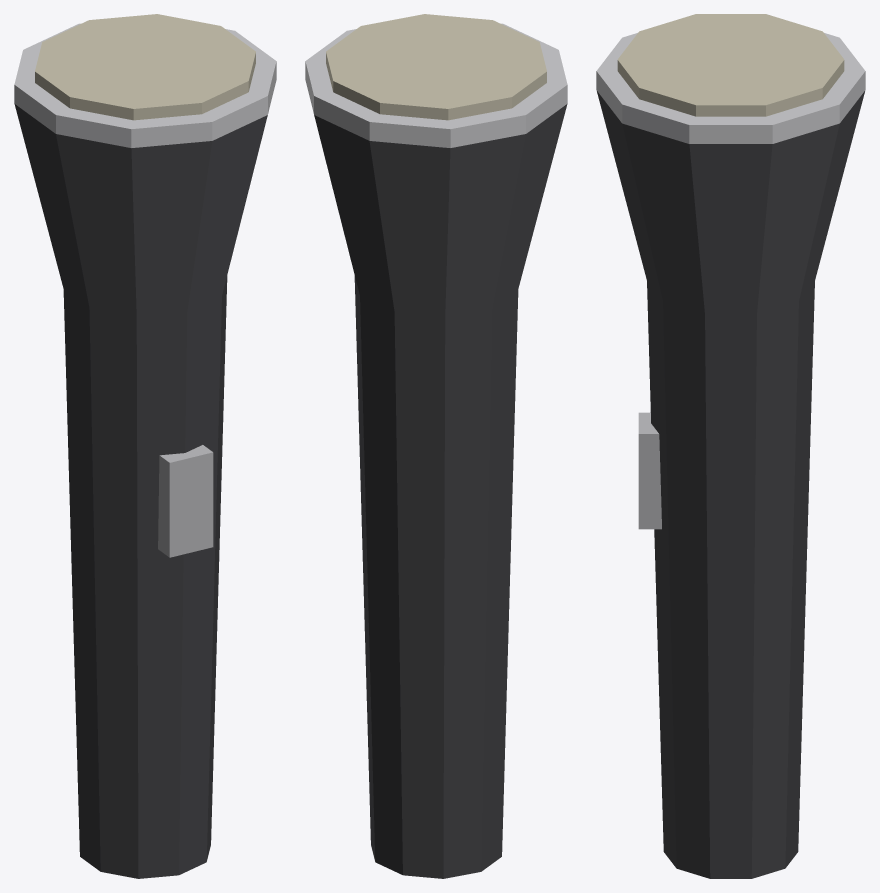
File: police_torch_a_off.glb
3 renders of one model, left to right at view 1: azimuth 30°, elevation 25°; view 2: azimuth 150°, elevation 25°; view 3: azimuth 270°, elevation 25°, orthographic.
Visible parts, largest first — view 1: body, lamp_glass; view 2: body, lamp_glass; view 3: body, lamp_glass.
Part boxes in pixels (x1=…): body: x1=14, y1=23, x2=276, y2=878; lamp_glass: x1=35, y1=14, x2=255, y2=120; body: x1=305, y1=23, x2=567, y2=878; lamp_glass: x1=326, y1=14, x2=546, y2=120; body: x1=596, y1=33, x2=865, y2=878; lamp_glass: x1=617, y1=14, x2=844, y2=116.
Bounding box in the file's own units: 0.0609 × 0.208 × 0.064.
